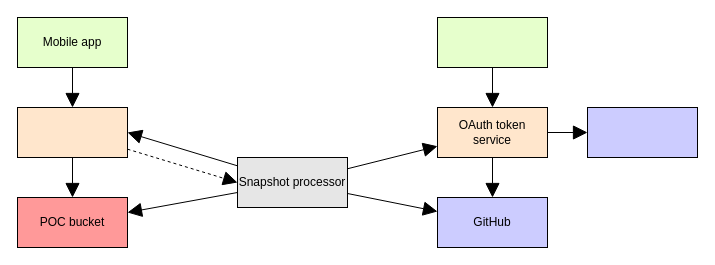
Image size: 715x265. Some labels were removed from this diagram. Here are the shapes that lost their labels. From the top down, the box of each, then its label:
(436, 16, 548, 68): Web app
(16, 106, 128, 158): POC service
(586, 106, 698, 158): Secrets Manager
